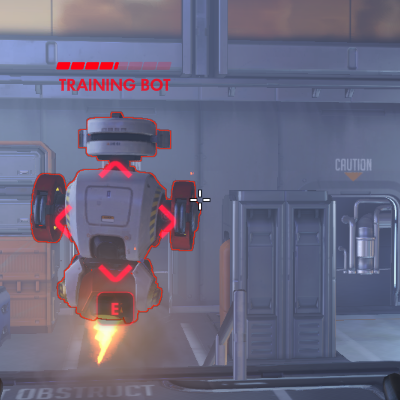hpbar: (56, 61, 171, 70)
